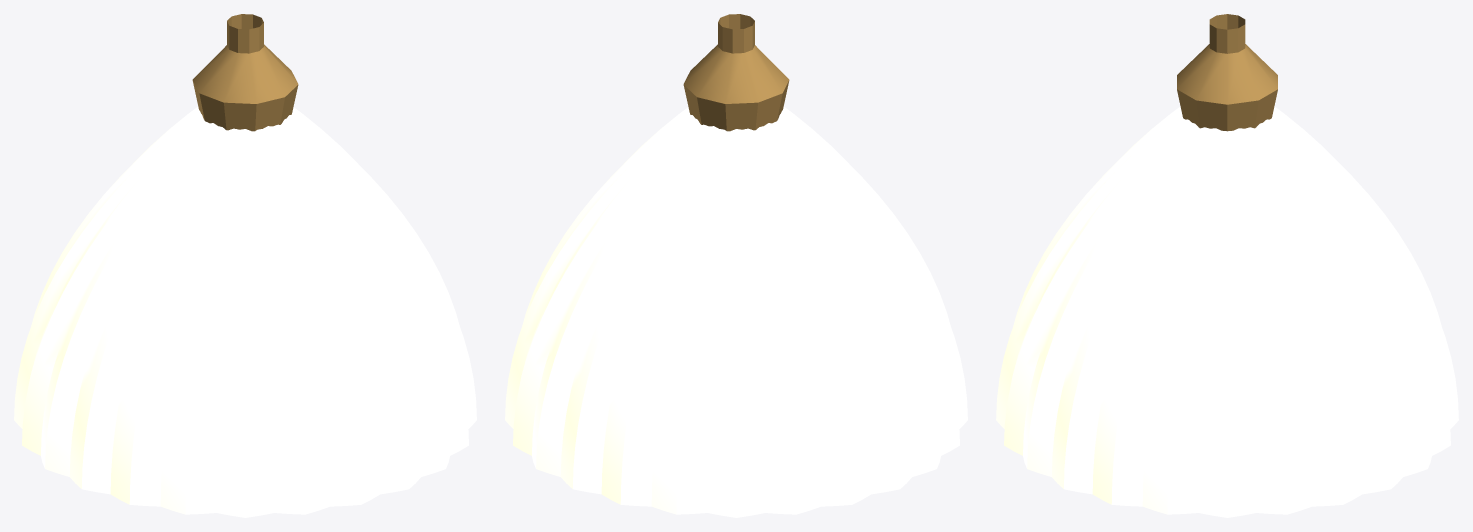
Rendered from fluted.glb.
The picture shows the model from 3 angles, left to right: view 1: azimuth 30°, elevation 25°; view 2: azimuth 150°, elevation 25°; view 3: azimuth 270°, elevation 25°; orthographic projection.
Parts seen in each view (by area): view 1: fluted; view 2: fluted; view 3: fluted.
Boxes of the visible parts, x1,y1,x2,y2 form: fluted: (14,14,476,517); fluted: (505,14,967,517); fluted: (996,14,1458,517).
Size of the model in its own units: 0.3475 by 0.33 by 0.3475.
